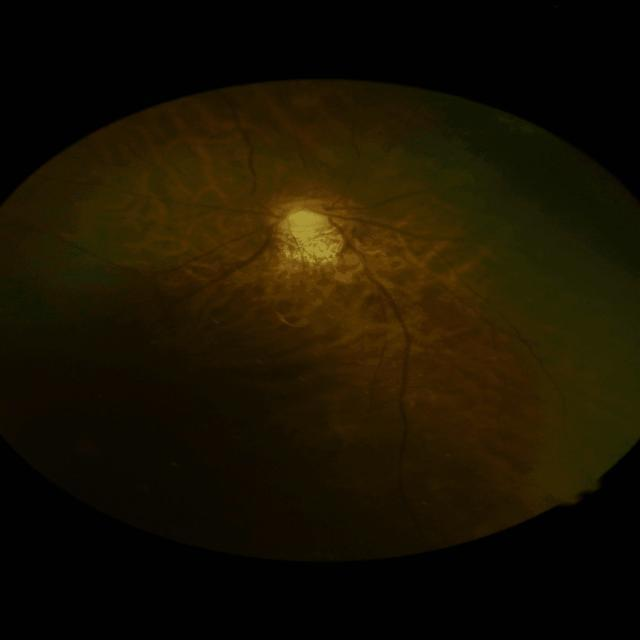cup: (286, 208, 326, 230)
disk: (268, 194, 352, 238)
